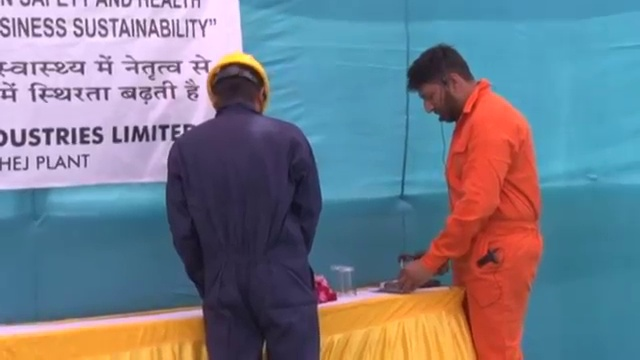helmet: (204, 51, 270, 104)
helmet_off: (404, 43, 479, 126)
helmet_on: (204, 49, 272, 116)
person: (161, 49, 325, 360), (398, 42, 544, 360)
